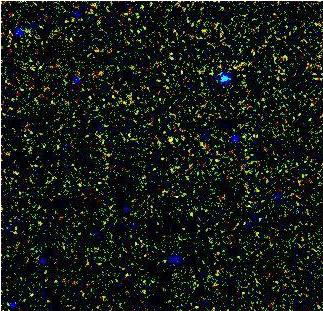star: (162, 123, 192, 153)
